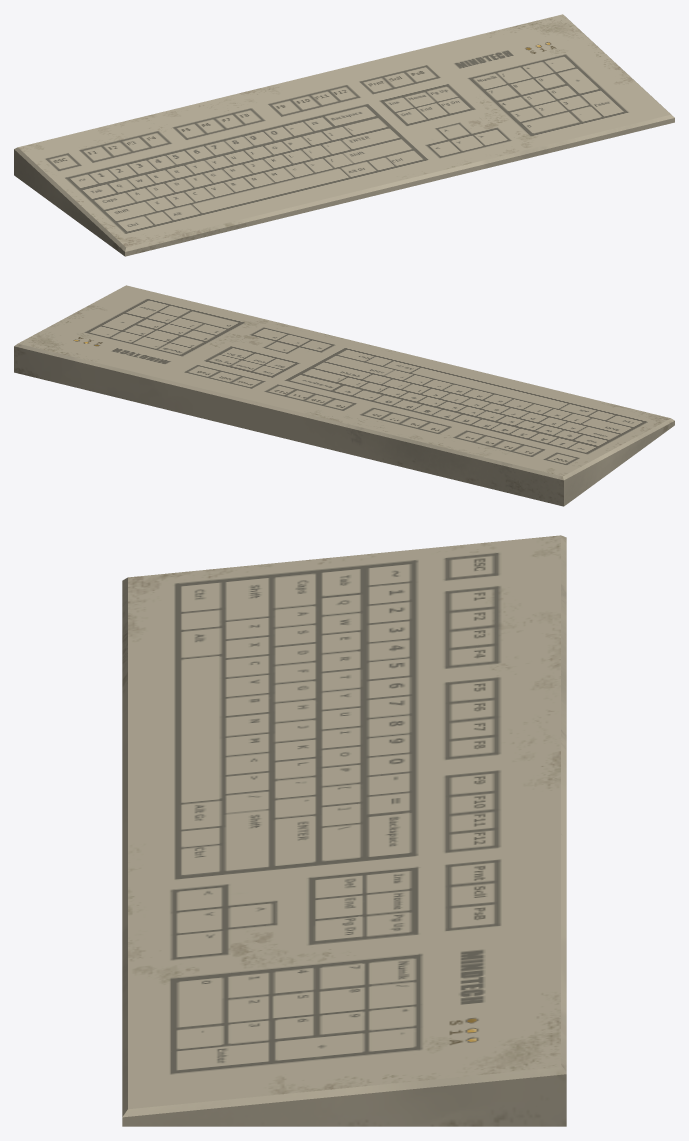
Rendered from Keyboard.fbx.
The picture shows the model from 3 angles, top to bottom: view 1: azimuth 30°, elevation 25°; view 2: azimuth 150°, elevation 25°; view 3: azimuth 270°, elevation 25°; orthographic projection. The views are drawn at different scales.
Visible parts, largest first — view 1: Keyboard; view 2: Keyboard; view 3: Keyboard.
Part boxes in pixels (x1,y1,x2,y2): Keyboard: (14, 14, 674, 256); Keyboard: (14, 285, 674, 506); Keyboard: (122, 535, 566, 1126).
Bounding box in the file's own units: 40 × 1.98 × 14.
